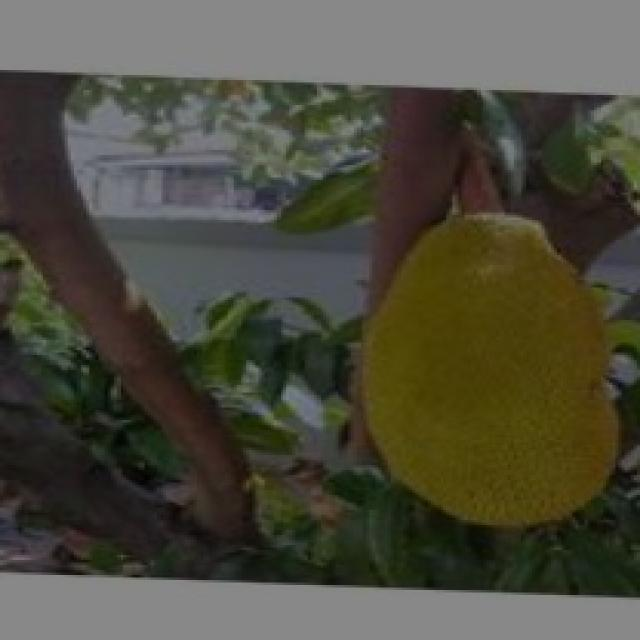Fruit: (314, 192, 640, 552)
